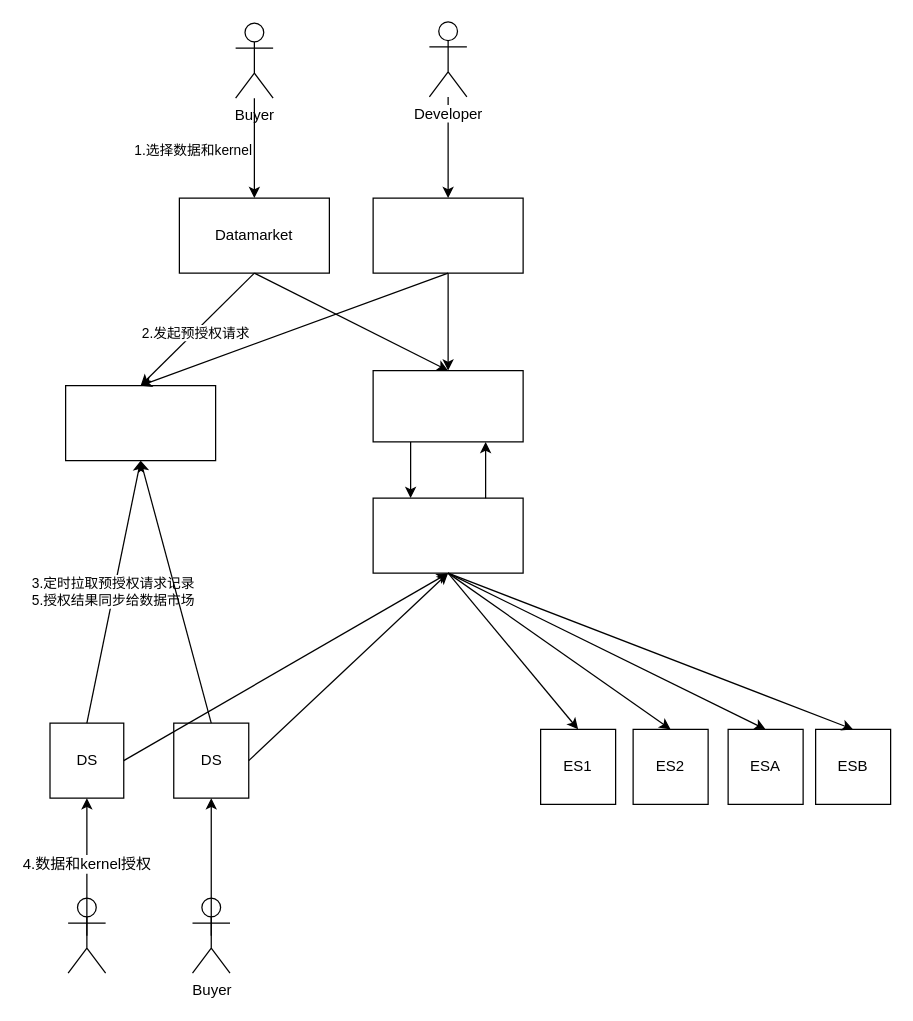
This 913x1021 diagram has some shape labels left out. The shapes that lost their labels are listed below. From the top down, each one's centre as x and y in pixels, then its label:
At (x=447, y=235): "Jupyter开发环境".
At (x=140, y=422): "DM数据目录和kernel的管理和权限服务".
At (x=447, y=405): "DM任务管理服务".
At (x=447, y=535): "TM".
At (x=86, y=935): "Seller".
